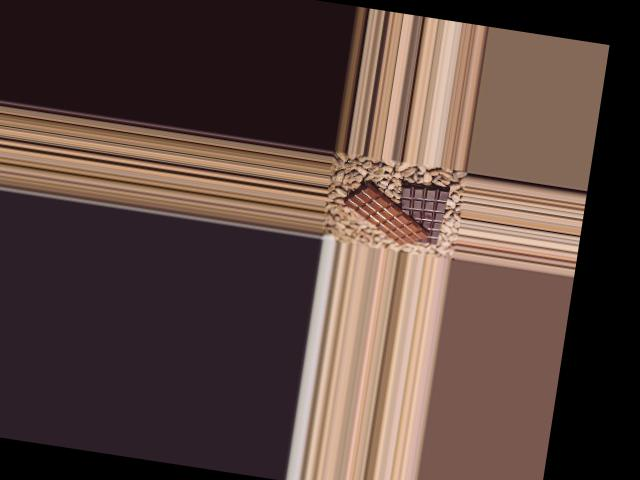chocolate: (393, 177, 456, 250)
